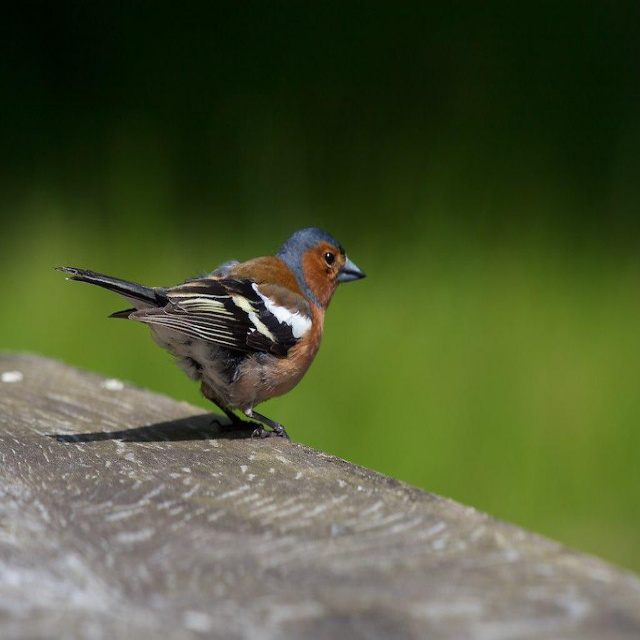Sparrow: (47, 228, 361, 446)
